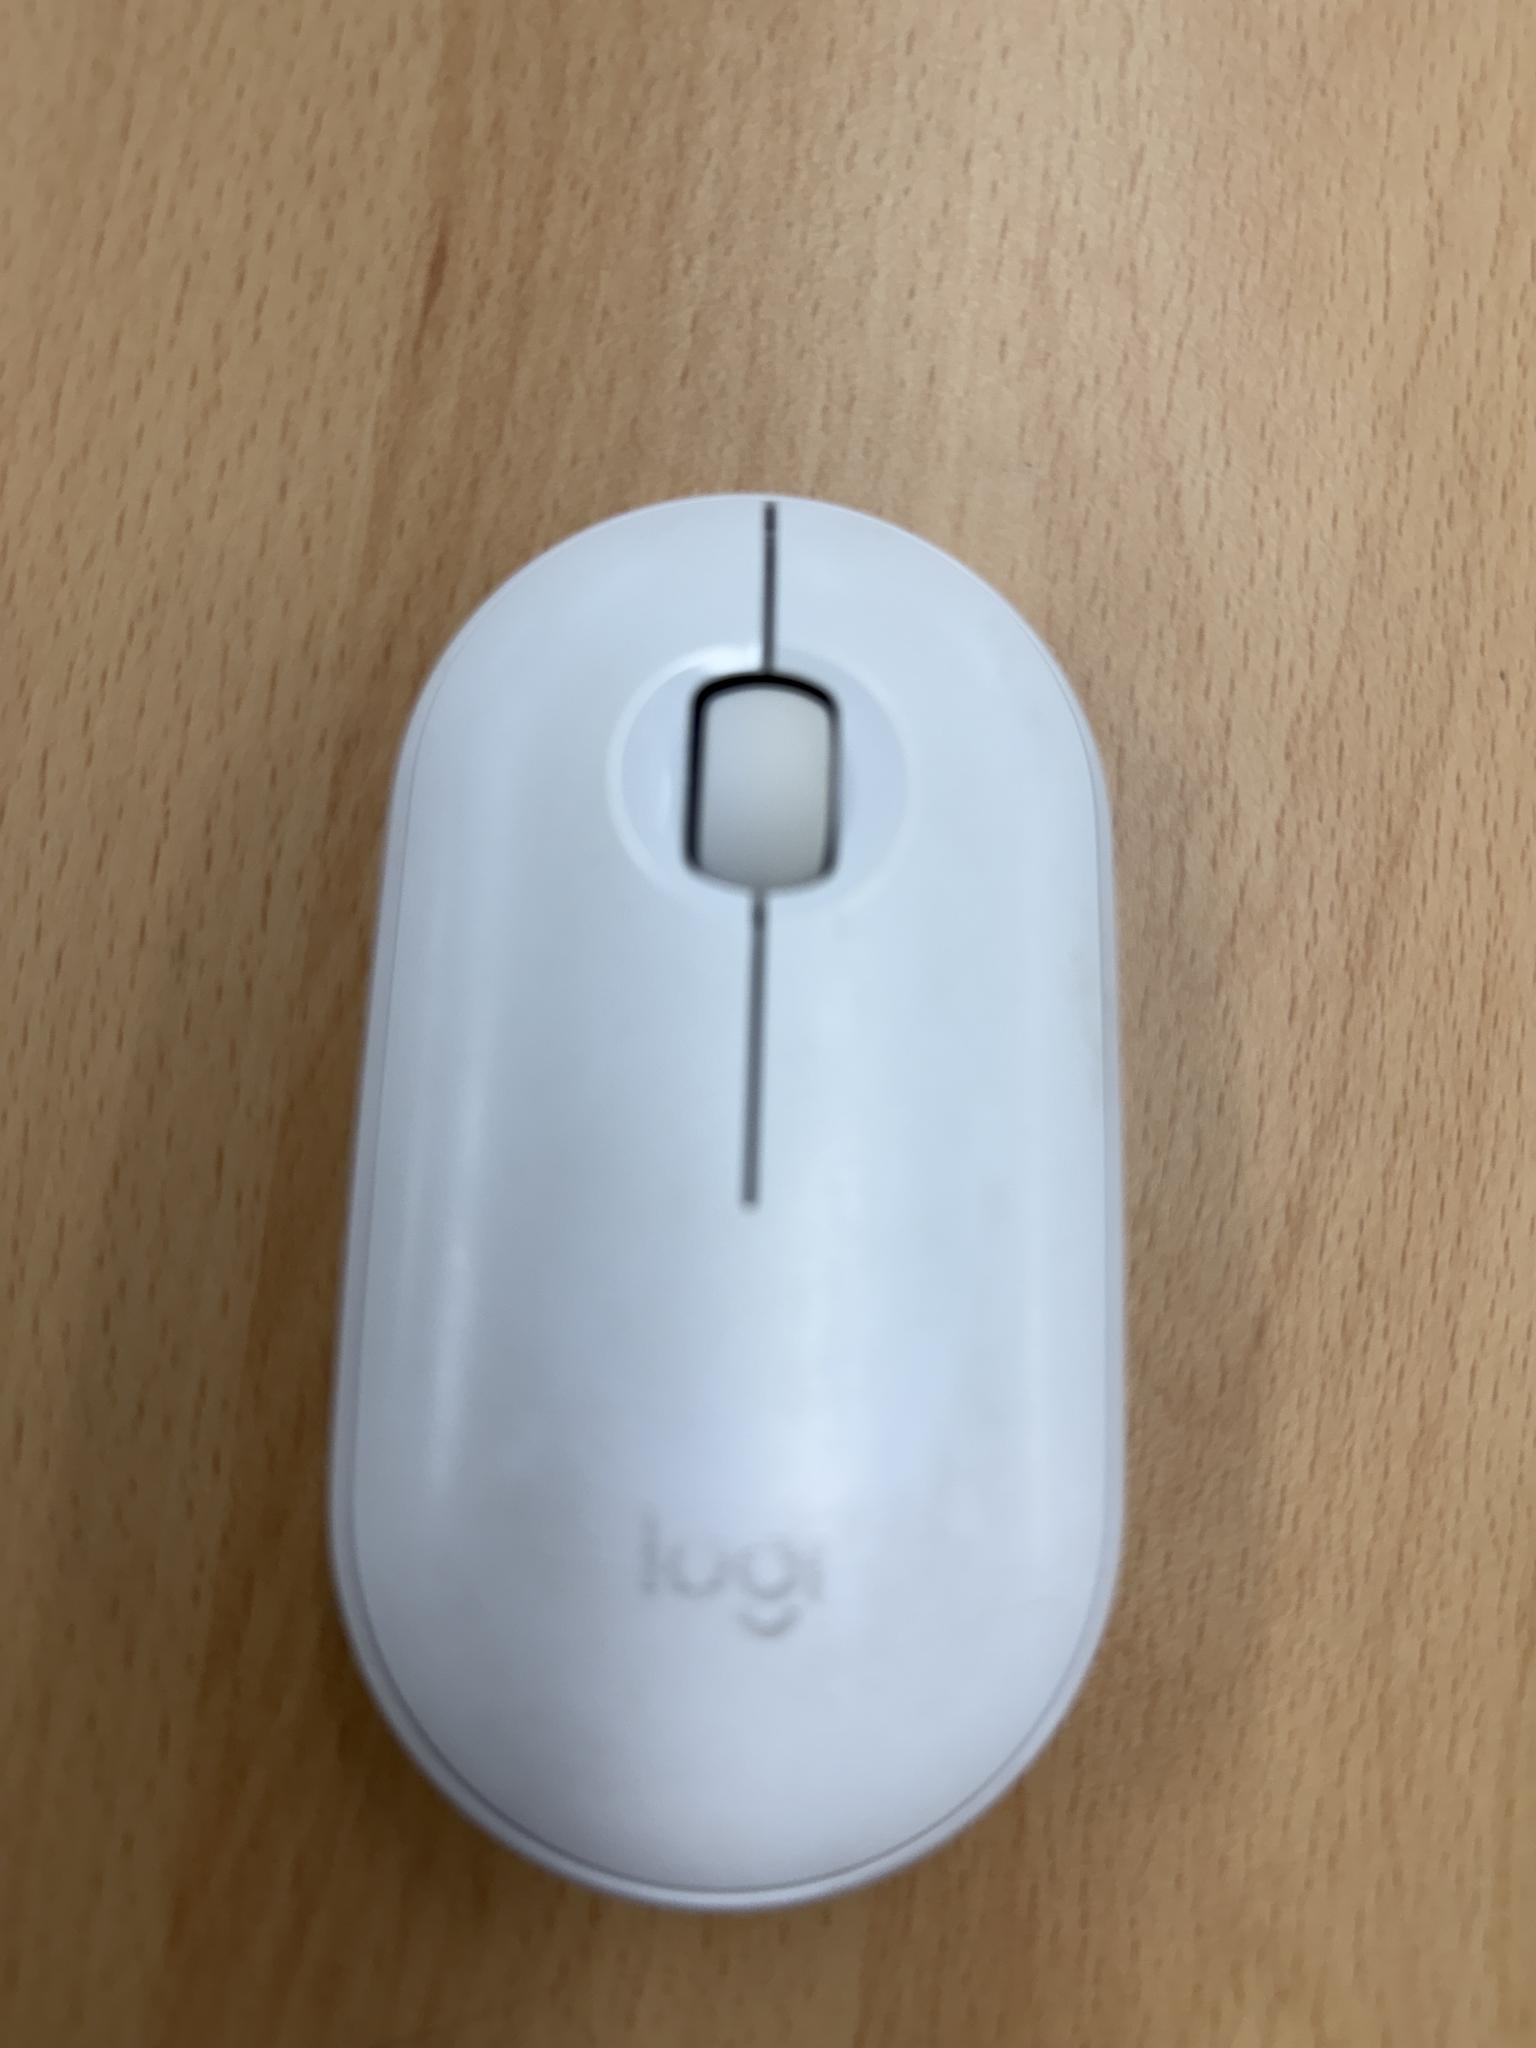front: (324, 487, 1141, 1909)
